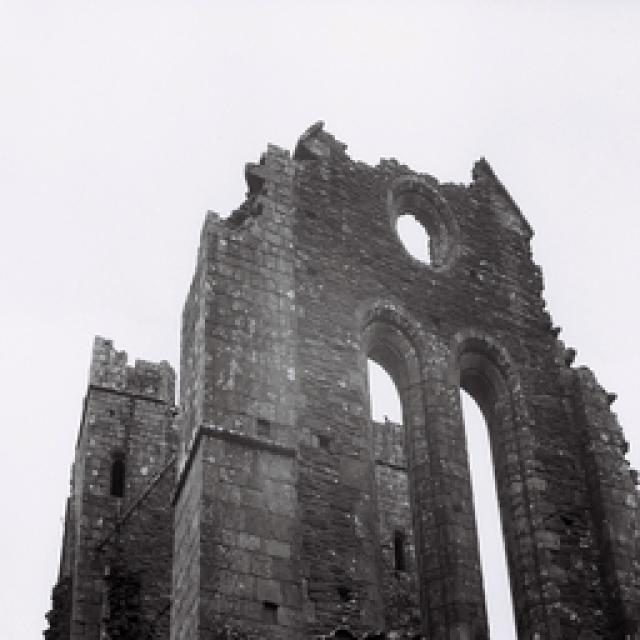Abbey: (43, 133, 640, 640)
